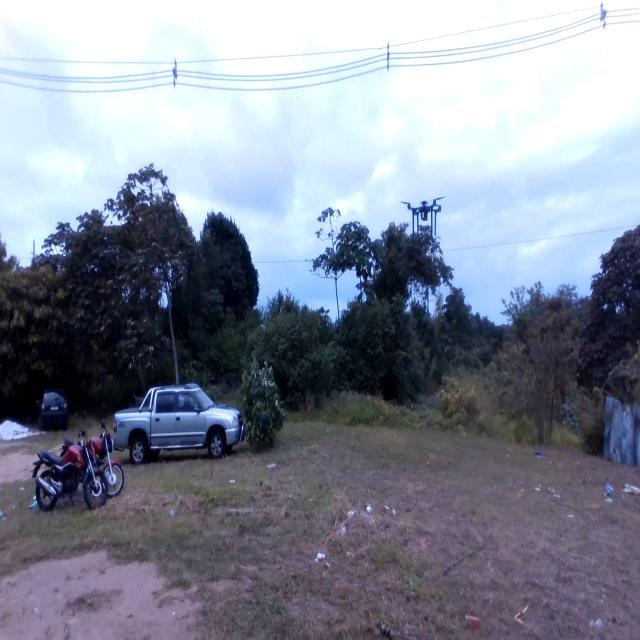-uav-: (396, 178, 452, 246)
